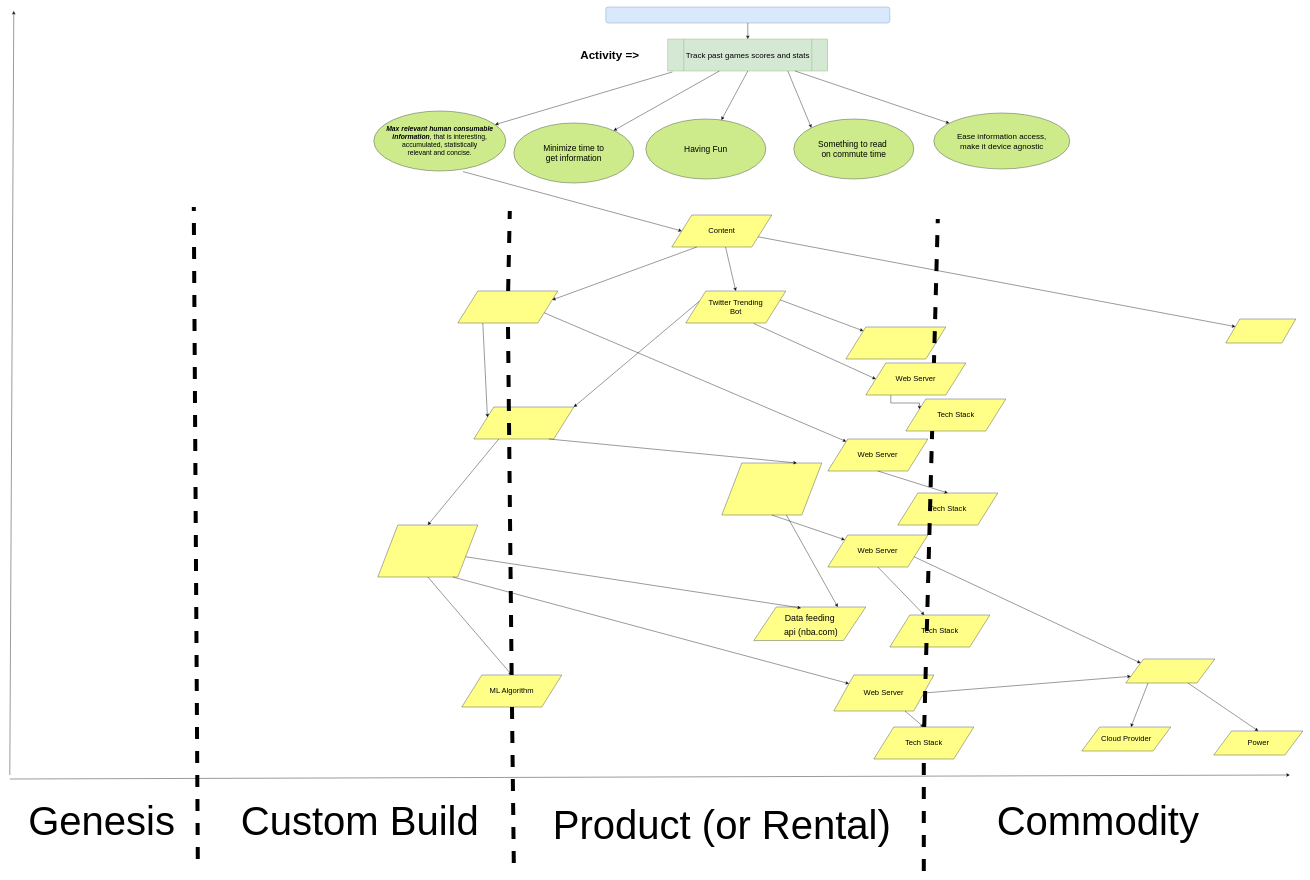
This 1310x880 diagram has some shape labels left out. The shapes that lost their labels are listed below. From the top down, each one's centre as x and y in pixels, then its label:
At (747,15): "Sports Fan".
At (507,307): "Web app (getdailyscore.com)".
At (895,343): "Twitter API".
At (1260,331): "Email".
At (523,423): "Content Generator".
At (771,489): "Chart Service".
At (427,551): "Sentence ML Service".
At (1170,671): "Compute".
